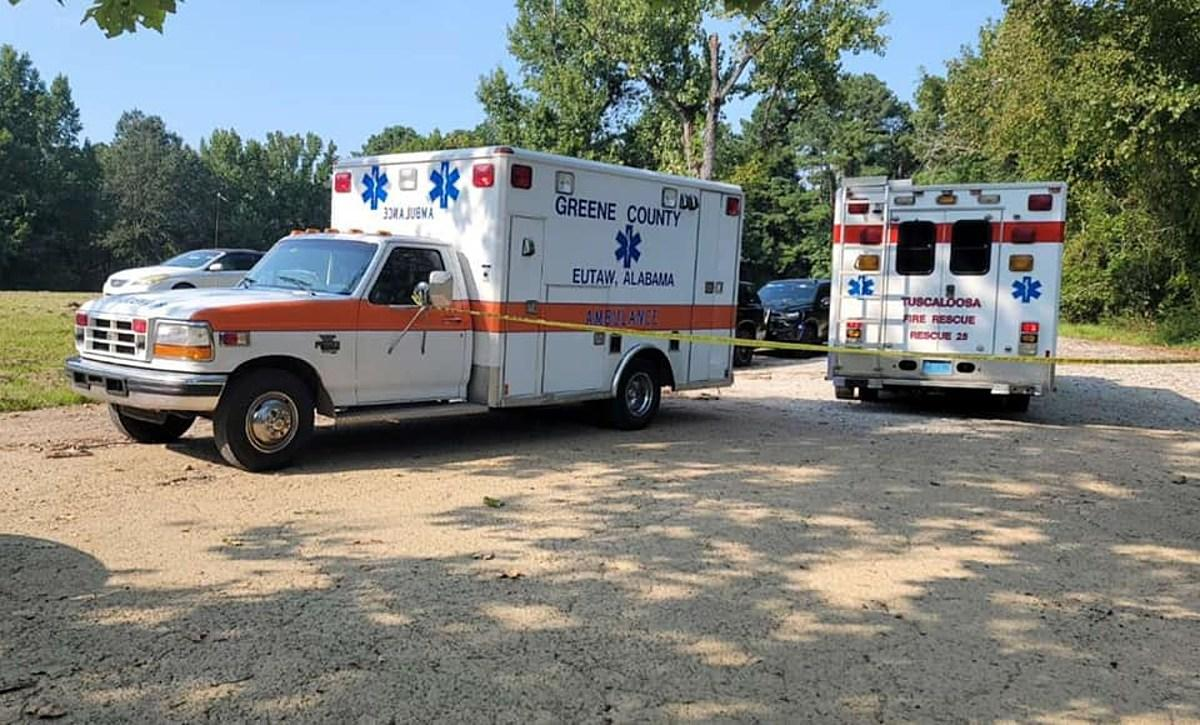ambulance_off: (61, 146, 747, 472), (824, 176, 1064, 413)
